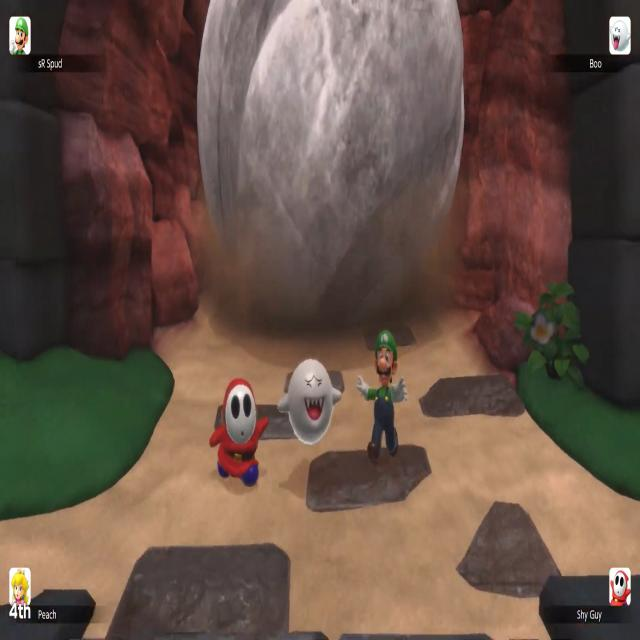Boo: (278, 359, 341, 445)
Luigi: (358, 331, 407, 461)
Shy Guy: (210, 378, 268, 487)
rolling stone: (197, 0, 464, 328)
